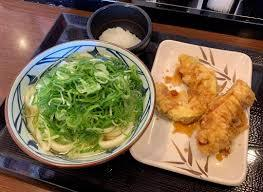pumpkin: (160, 56, 217, 123)
